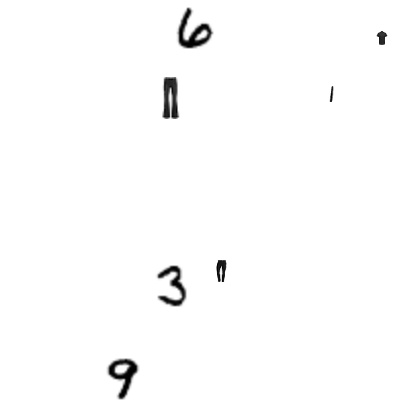2: (58, 228, 86, 256)
3: (313, 288, 335, 310)
6: (107, 151, 149, 193)
7: (56, 293, 78, 315)
Bag: (50, 3, 106, 59), (30, 113, 72, 155)
Coat: (8, 292, 36, 320)
Sandal: (245, 267, 301, 323)
